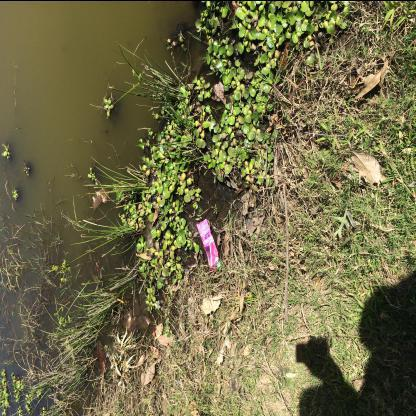diger: (198, 219, 221, 271)
